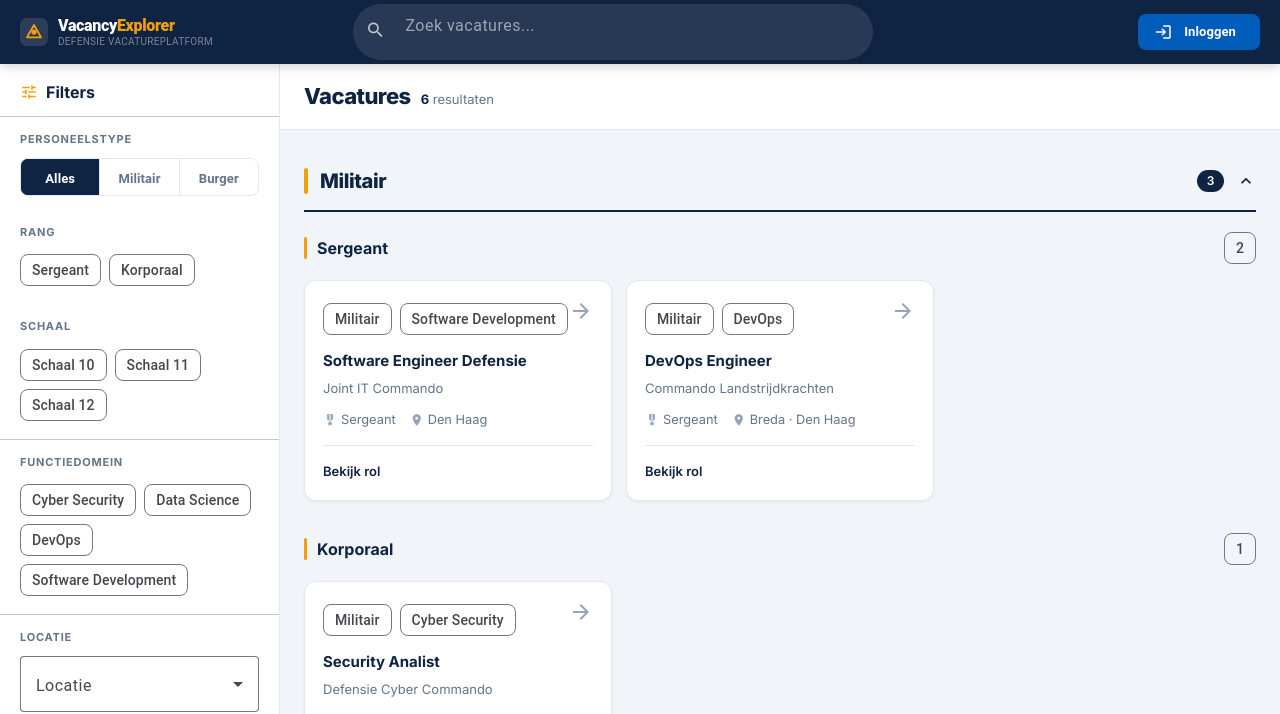
Vacancy overview – search › finds a vacancy by its title
Expected: the element with test id "vacancy-card" that starts with "Militair" is shown, [304, 280, 612, 501]
Type "Data Scientist" into the search field with test id "search-input" at (631, 26), box [405, 14, 857, 38]
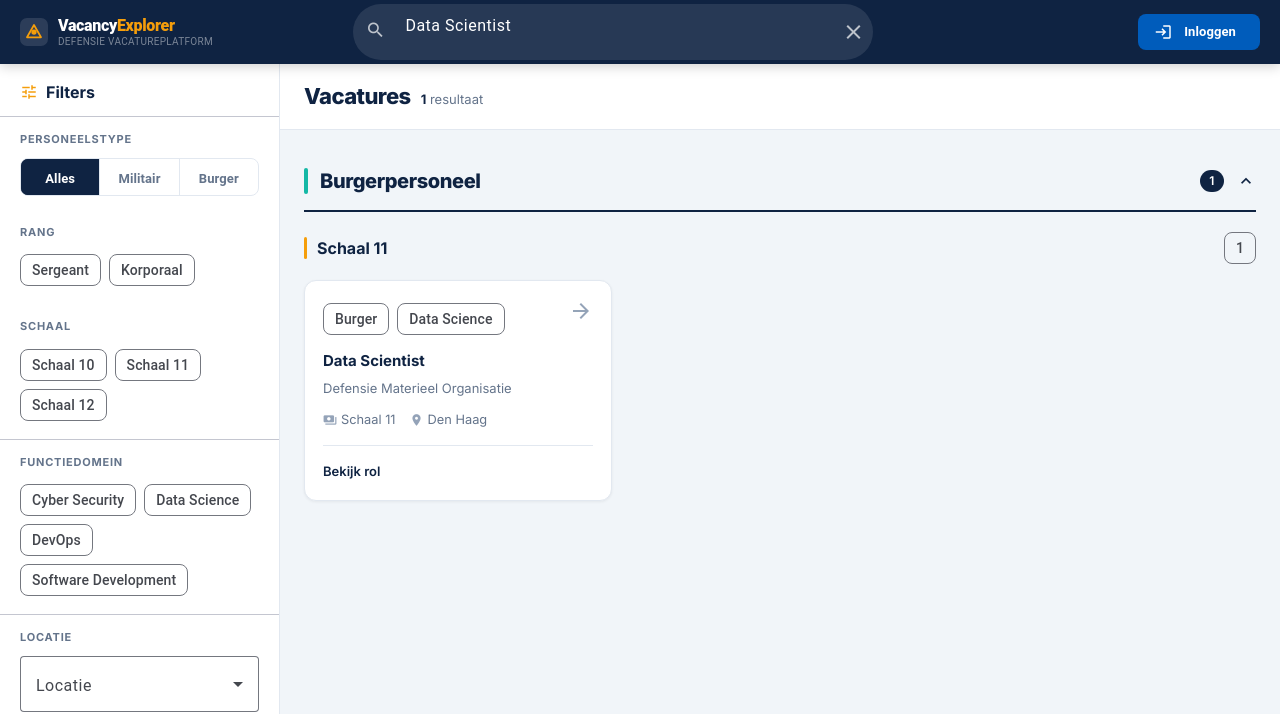
Expected: the heading with test id "vacancy-card-title" reads "Data Scientist", [323, 351, 425, 370]
Expected: the text with test id "results-count-value" reads "1", [421, 91, 427, 107]
